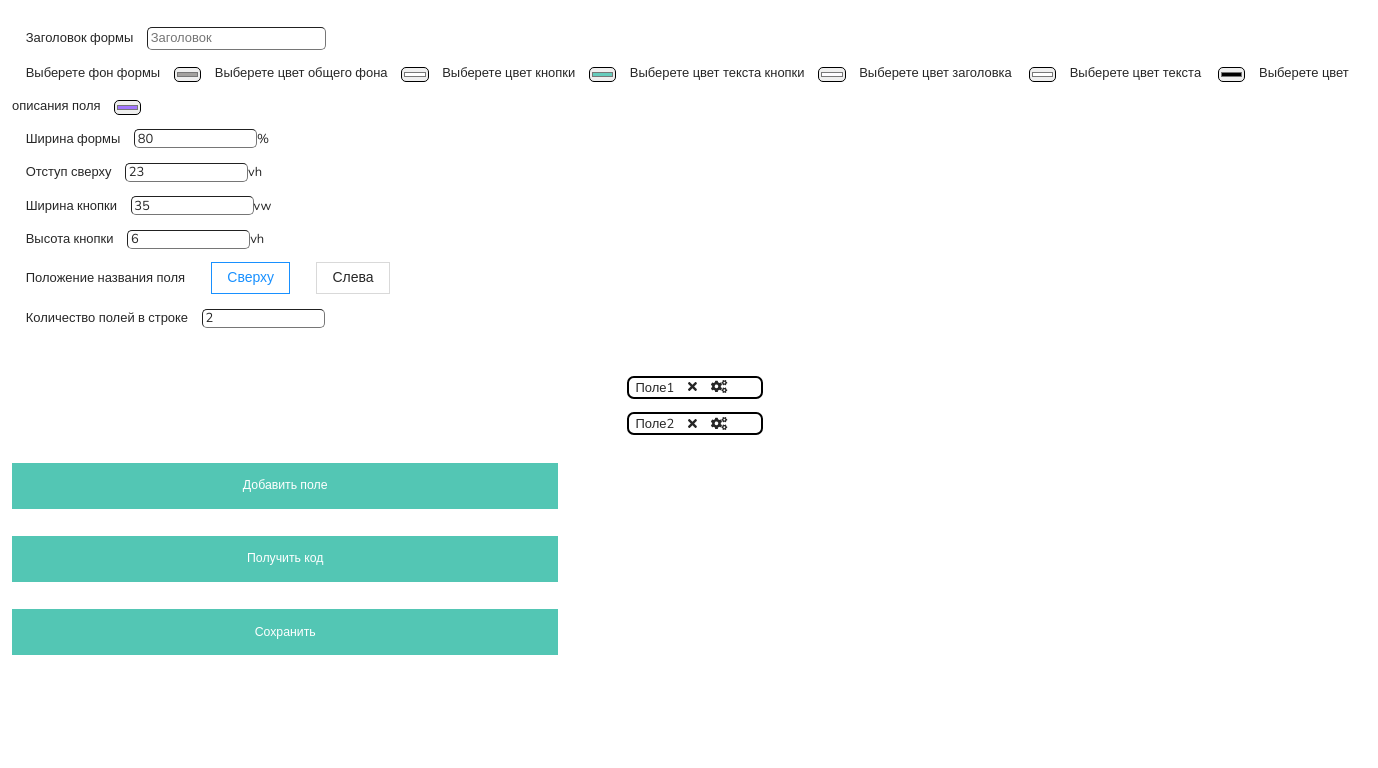
Scenario: dataFilling › change labels position
This screenshot has width=1378, height=768.
Expected: the radio button showing "top" is checked, [212, 262, 290, 294]
Expected: the number field with placeholder "Полей в строке" is shown, [202, 309, 325, 328]
Step 1. Click the radio button showing "left" → (353, 278), box [317, 262, 390, 294]
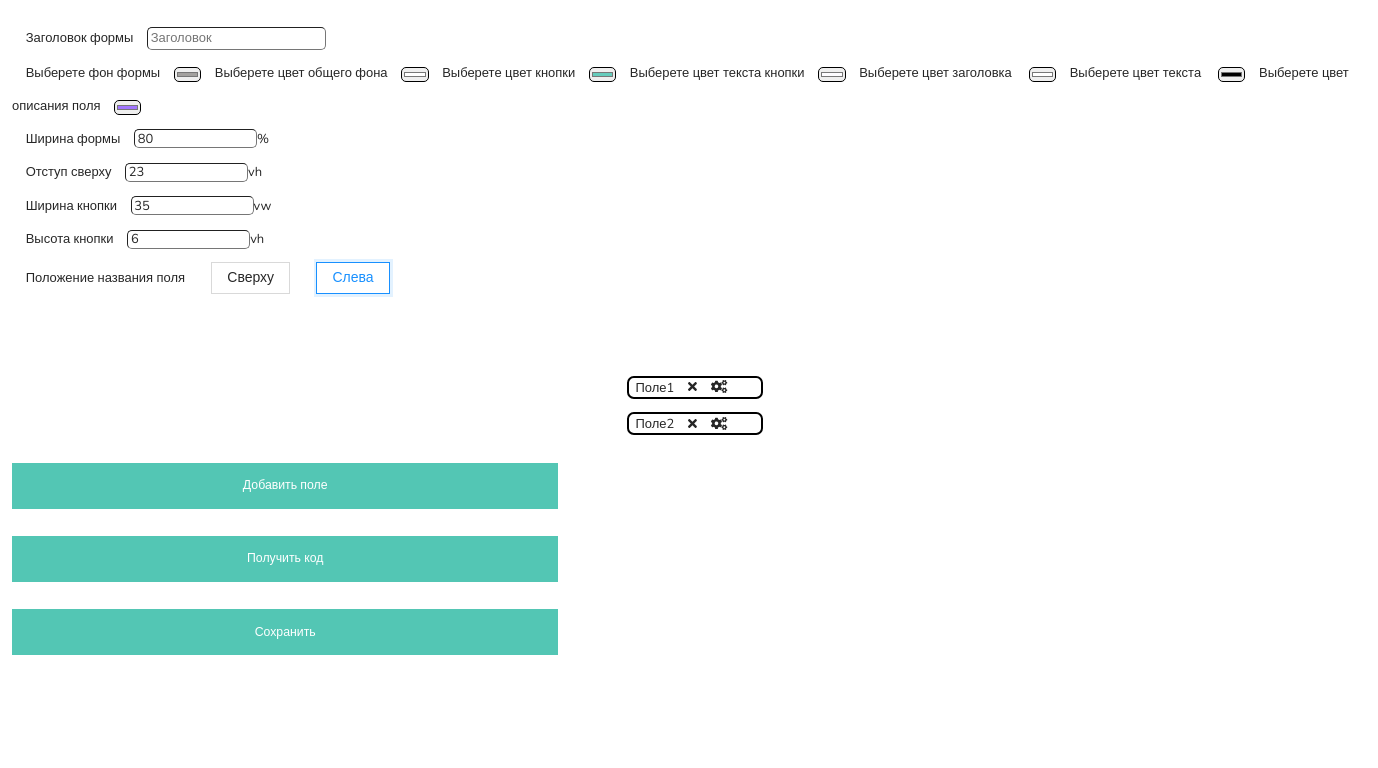
Expected: the radio button showing "left" is checked, [317, 262, 390, 294]
Expected: the radio button showing "top" is not checked, [212, 262, 290, 294]
